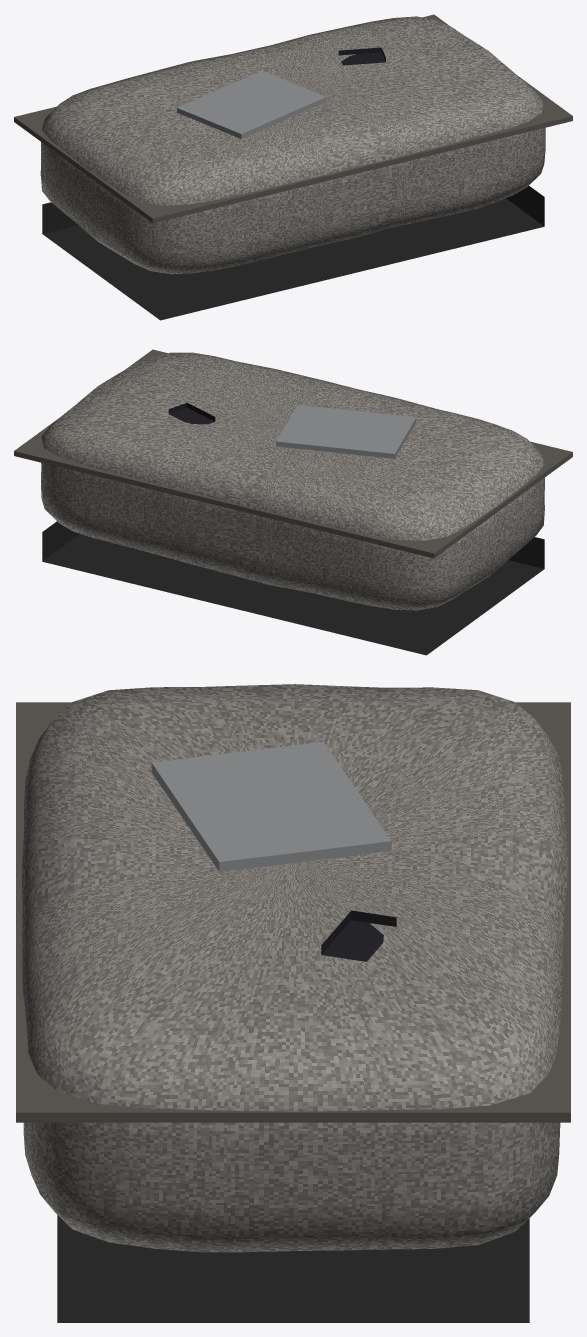
The model's file is ottoman5.glb.
The picture shows the model from 3 angles, top to bottom: view 1: azimuth 30°, elevation 25°; view 2: azimuth 150°, elevation 25°; view 3: azimuth 270°, elevation 25°; orthographic projection. The views are drawn at different scales.
Parts seen in each view (by area): view 1: root; view 2: root; view 3: root.
Part boxes in pixels (bbox=[...]): root: bbox=[14, 14, 572, 320]; root: bbox=[14, 349, 572, 655]; root: bbox=[16, 684, 570, 1322].
Bounding box in the file's own units: 1.36 × 0.442 × 0.7742.
Materials: 6 (2 with a texture image).
